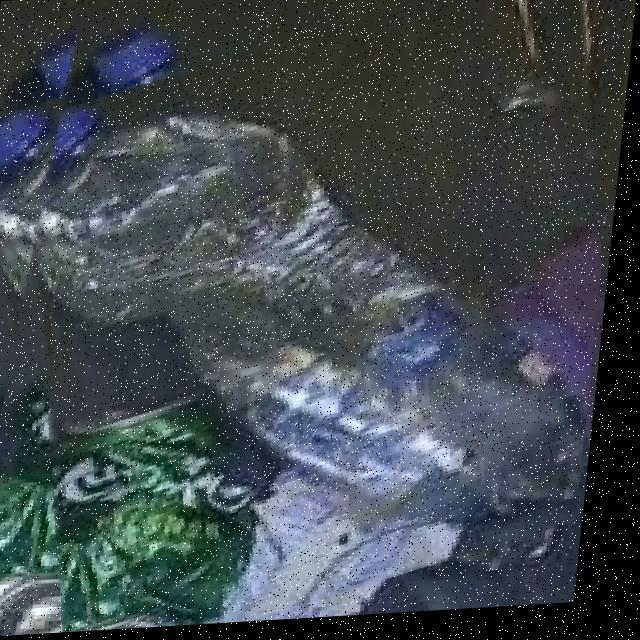litter: (0, 0, 631, 639)
